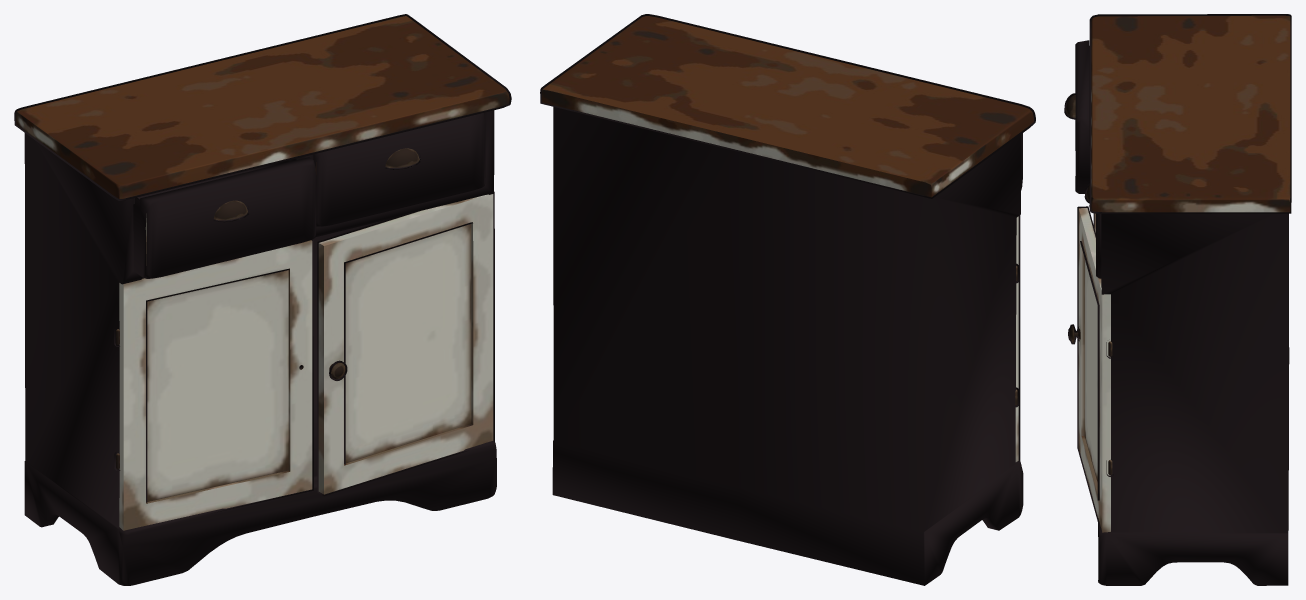
The model's file is SM_Int_Cabinet.fbx.
3 renders of one model, left to right at view 1: azimuth 30°, elevation 25°; view 2: azimuth 150°, elevation 25°; view 3: azimuth 270°, elevation 25°, orthographic. The views are drawn at different scales.
Parts seen in each view (by area): view 1: SM_Int_Cabinet; view 2: SM_Int_Cabinet; view 3: SM_Int_Cabinet.
Part boxes in pixels (<box>): SM_Int_Cabinet: <box>14,14,511,585</box>; SM_Int_Cabinet: <box>540,14,1035,585</box>; SM_Int_Cabinet: <box>1064,14,1291,585</box>.
Size of what is drawn, in the model's own units: 1.84 by 1.82 by 0.9517.
